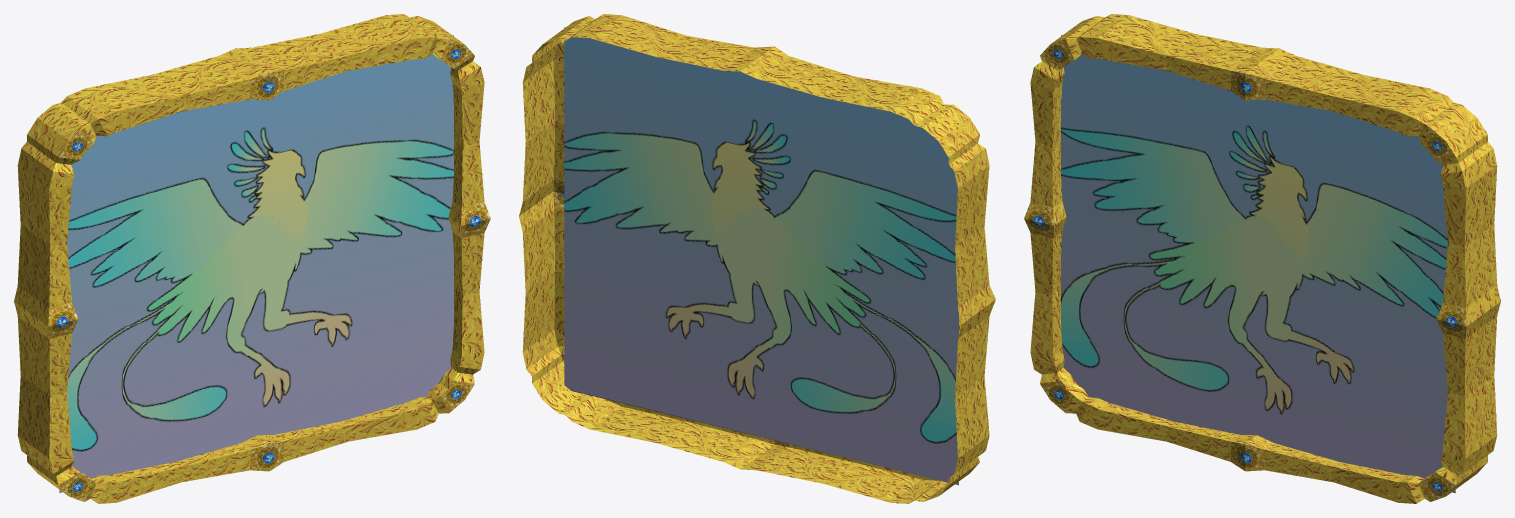
File: Cuadro_Damaha.fbx
3 renders of one model, left to right at view 1: azimuth 30°, elevation 25°; view 2: azimuth 150°, elevation 25°; view 3: azimuth 330°, elevation 25°, orthographic.
Parts seen in each view (by area): view 1: Cube.027; view 2: Cube.027; view 3: Cube.027.
Boxes of the visible parts, left/top/right/bottom form: Cube.027: left=14, top=14, right=490, bottom=503; Cube.027: left=519, top=14, right=995, bottom=503; Cube.027: left=1024, top=14, right=1500, bottom=503.
Bounding box in the file's own units: 89.22 × 76.64 × 11.95.
